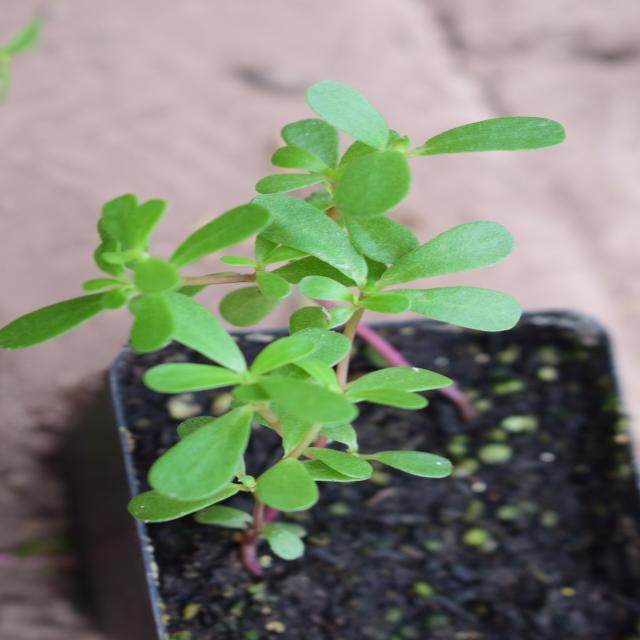purslane: (70, 54, 550, 621)
